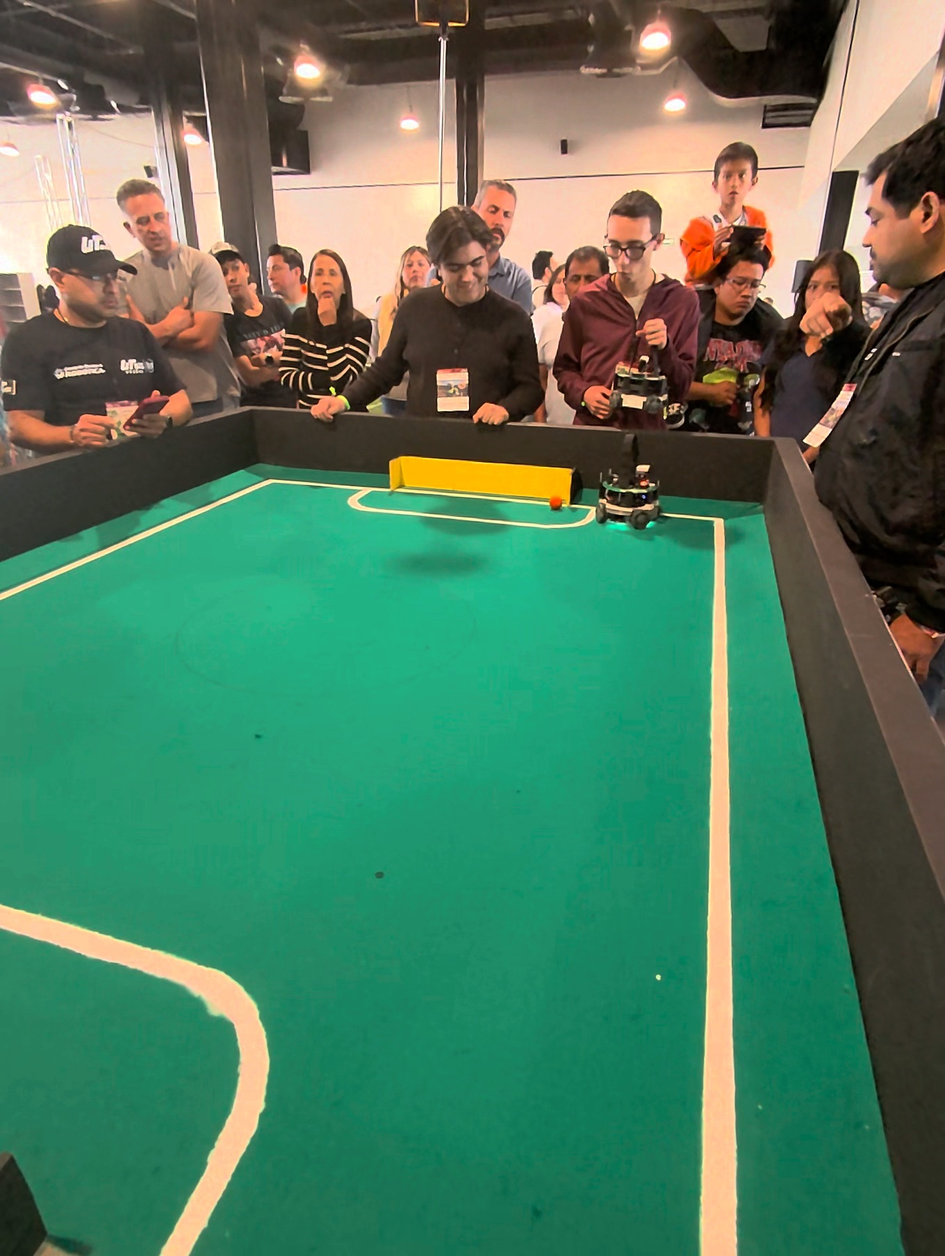Robot: (590, 430, 668, 541)
pelota: (544, 491, 559, 513)
